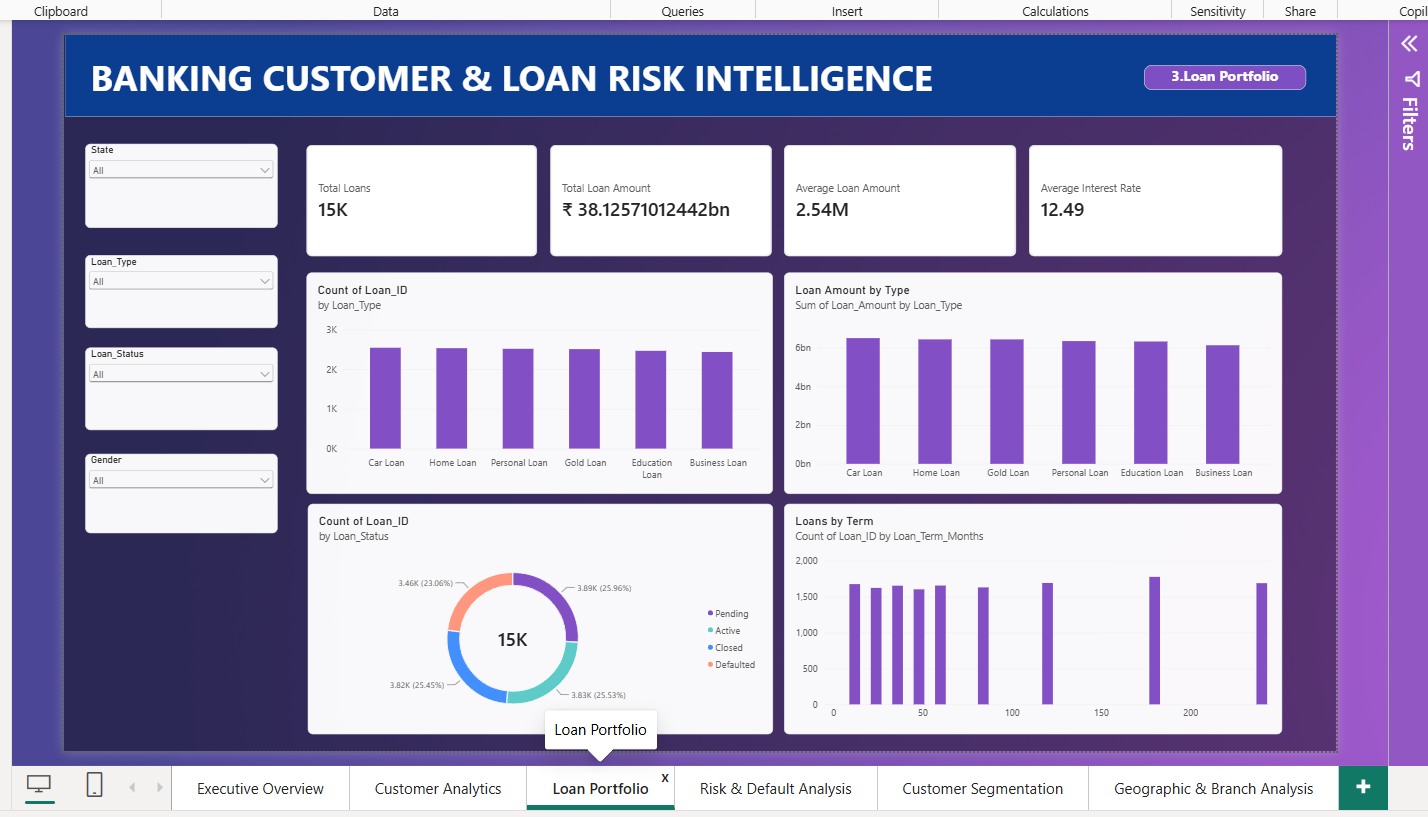

What the dashboard file says about the page in this screenshot:
{"tool":"powerbi","page":{"name":"Loan Portfolio","canvas":[1920,1080],"ordinal":2},"visuals":[{"type":"cardVisual","fields":{"Data":["loans.Total Loans"]},"box":[366,166,348,168],"z":0},{"type":"cardVisual","fields":{"Data":["loans.Total Loan Amount"]},"box":[734,166,334,168],"z":1000},{"type":"cardVisual","fields":{"Data":["loans.Average Loan Amount"]},"box":[1086,166,350,168],"z":2000},{"type":"cardVisual","fields":{"Data":["loans.Average Interest Rate"]},"box":[1456,166,382,168],"z":3000},{"type":"columnChart","fields":{"Category":["loans.Loan_Type"],"Y":["CountNonNull(loans.Loan_ID)"]},"box":[366,358,704,334],"z":4000},{"type":"columnChart","title":"Loan Amount by Type","fields":{"Category":["loans.Loan_Type"],"Y":["Sum(loans.Loan_Amount)"]},"box":[1086,358,752,334],"z":5000},{"type":"donutChart","fields":{"Category":["loans.Loan_Status"],"Y":["CountNonNull(loans.Loan_ID)"]},"box":[368,708,702,348],"z":6000},{"type":"columnChart","title":"Loans by Term","fields":{"Category":["loans.Loan_Term_Months"],"Y":["CountNonNull(loans.Loan_ID)"]},"box":[1085.9,708,752,348],"z":7000},{"type":"slicer","fields":{"Values":["customers.State"]},"box":[32.5,165,290,127.5],"z":8000},{"type":"slicer","fields":{"Values":["loans.Loan_Type"]},"box":[32.5,332.5,290,110],"z":9000},{"type":"slicer","fields":{"Values":["loans.Loan_Status"]},"box":[32.5,472.5,290,125],"z":10000},{"type":"slicer","fields":{"Values":["customers.Gender"]},"box":[32.5,632.5,290,120],"z":11000},{"type":"shape","box":[1.8,0,1918.6,122.9],"z":12000},{"type":"textbox","box":[1630,45,245,37.5],"z":13000}]}

Visuals, with their boxes on the page's 1920x1080 design canvas (x1, y1, x2, y2). These are canvas units, not pixel positions in the 1428x817 screenshot, which may show the page scaled, cropped or inside an application window:
cardVisual - loans.Total Loans: bbox=[366, 166, 714, 334]
cardVisual - loans.Total Loan Amount: bbox=[734, 166, 1068, 334]
cardVisual - loans.Average Loan Amount: bbox=[1086, 166, 1436, 334]
cardVisual - loans.Average Interest Rate: bbox=[1456, 166, 1838, 334]
columnChart - loans.Loan_Type x CountNonNull(loans.Loan_ID): bbox=[366, 358, 1070, 692]
"Loan Amount by Type" columnChart: bbox=[1086, 358, 1838, 692]
donutChart - loans.Loan_Status x CountNonNull(loans.Loan_ID): bbox=[368, 708, 1070, 1056]
"Loans by Term" columnChart: bbox=[1086, 708, 1838, 1056]
slicer - customers.State: bbox=[32, 165, 322, 292]
slicer - loans.Loan_Type: bbox=[32, 332, 322, 442]
slicer - loans.Loan_Status: bbox=[32, 472, 322, 598]
slicer - customers.Gender: bbox=[32, 632, 322, 752]
shape: bbox=[2, 0, 1920, 123]
textbox: bbox=[1630, 45, 1875, 82]
